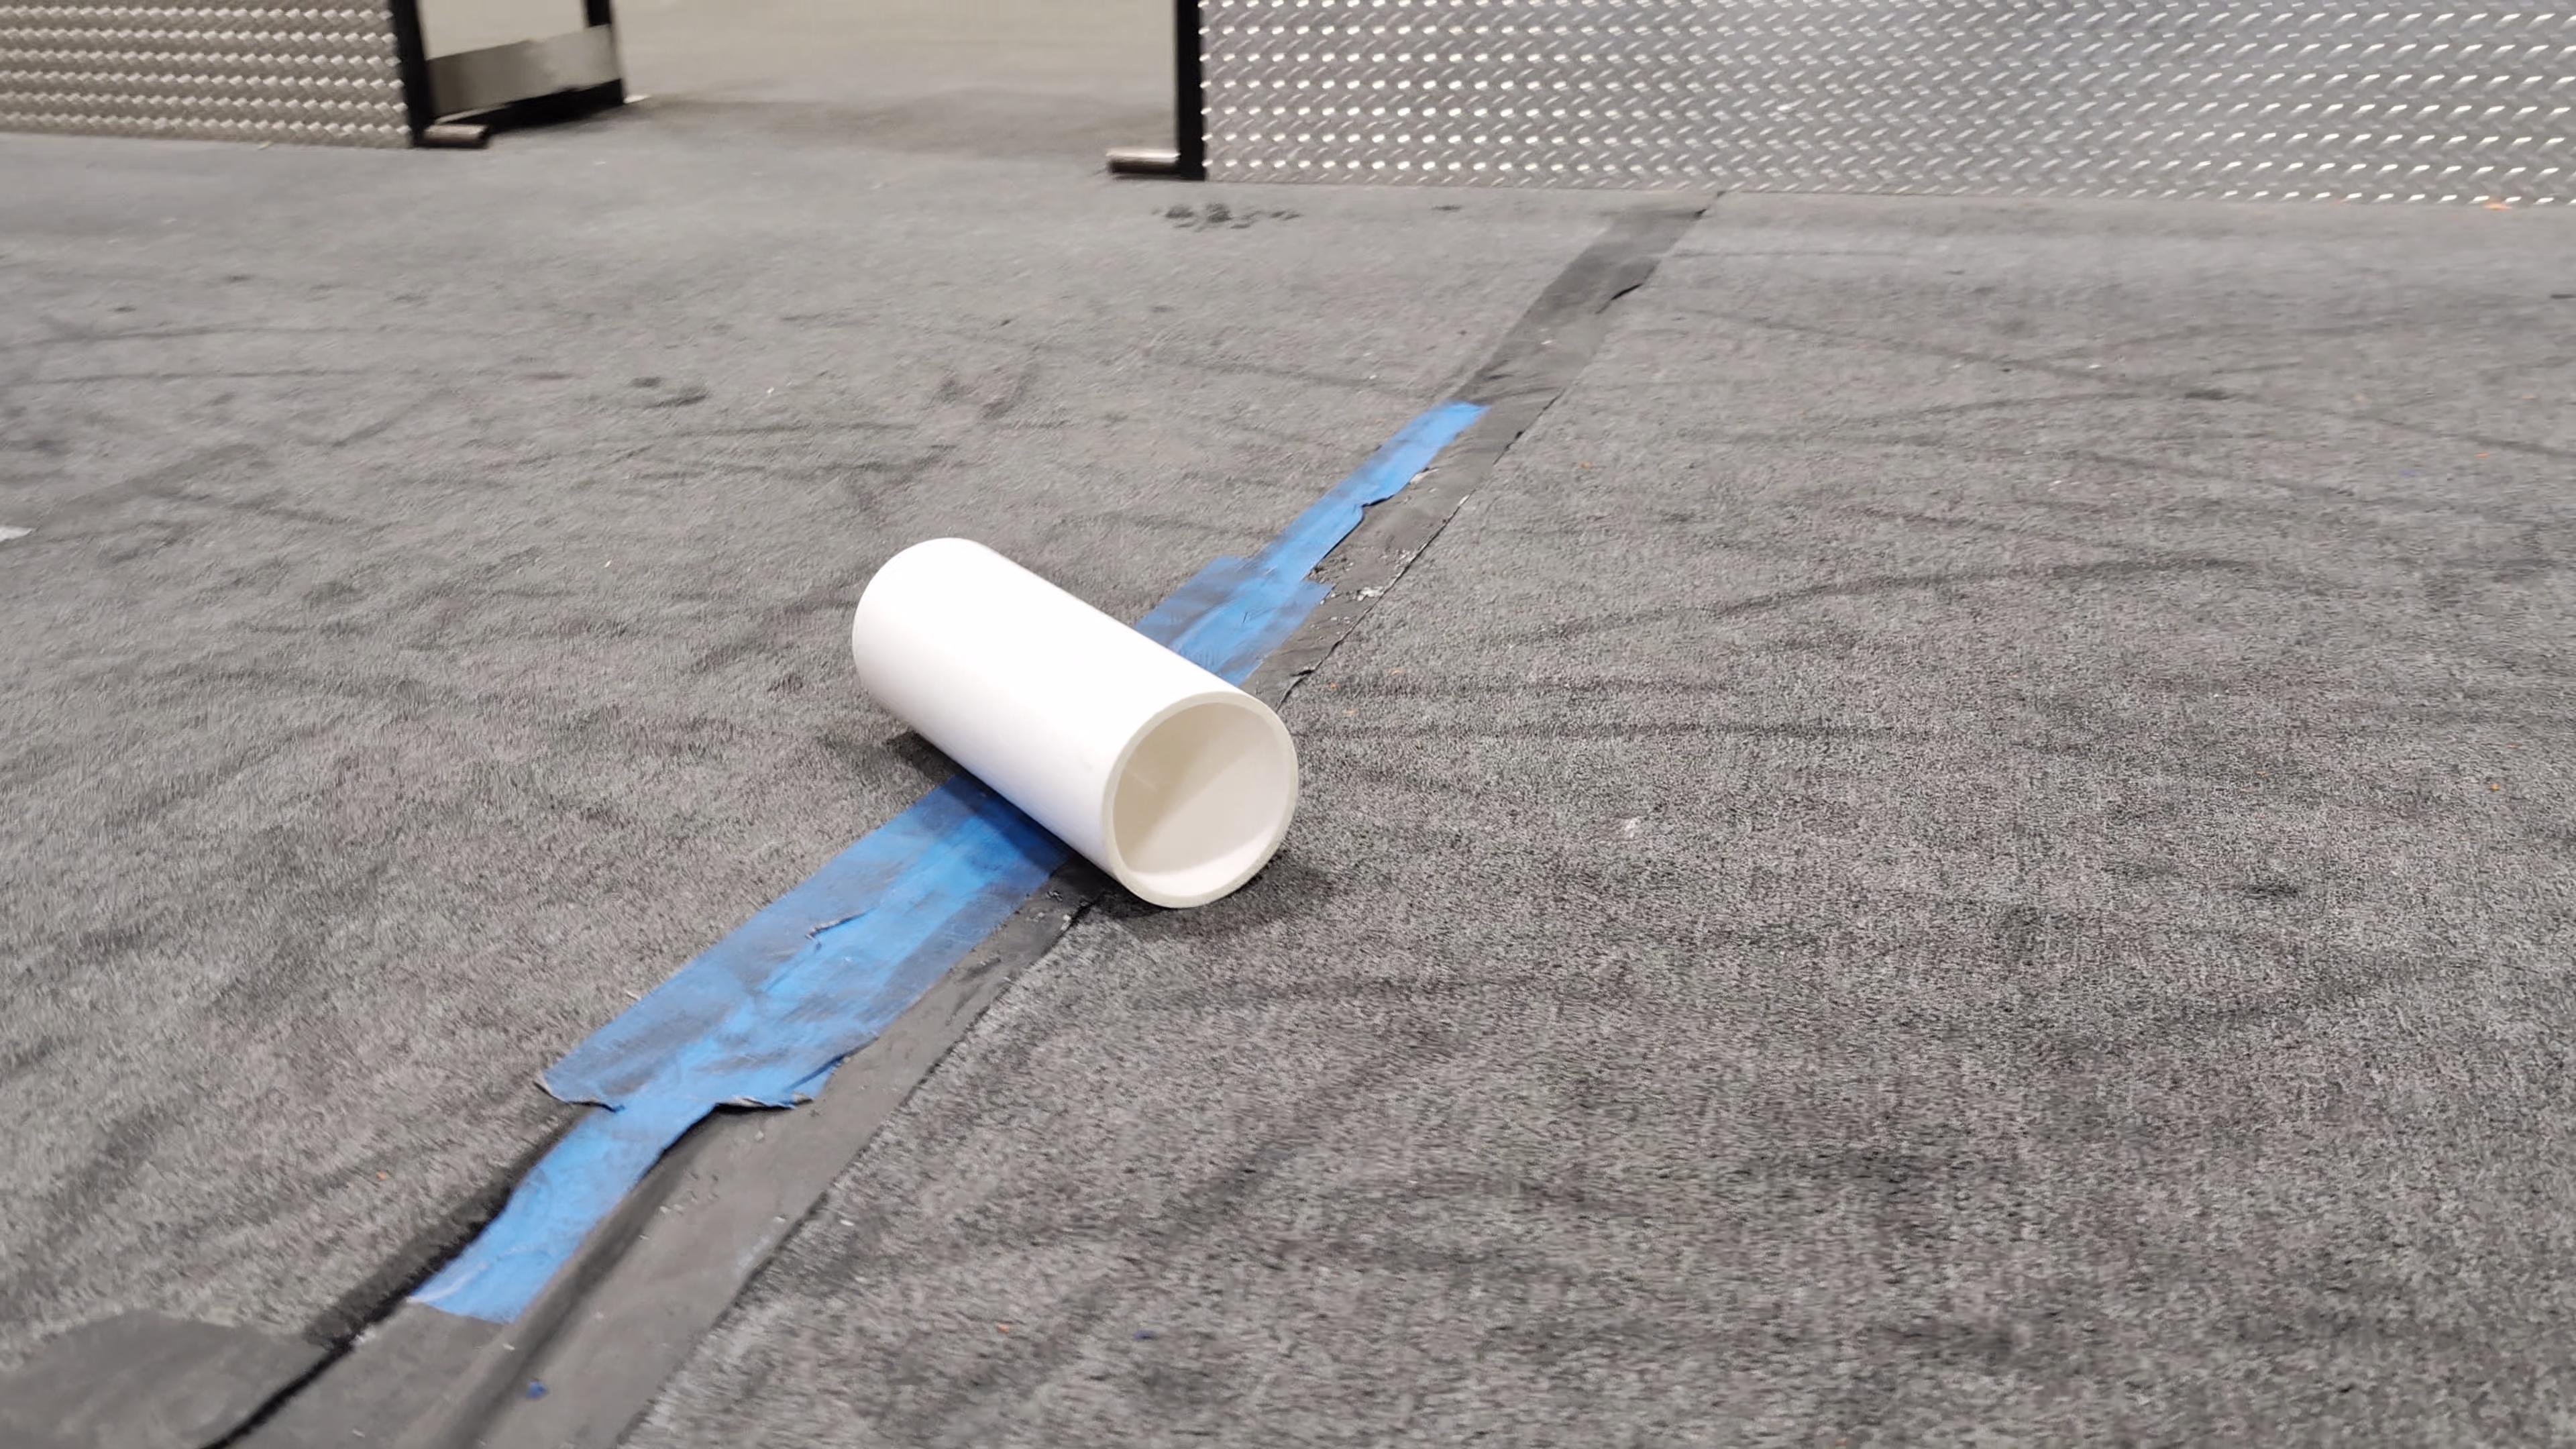coral: (849, 531, 1304, 909)
